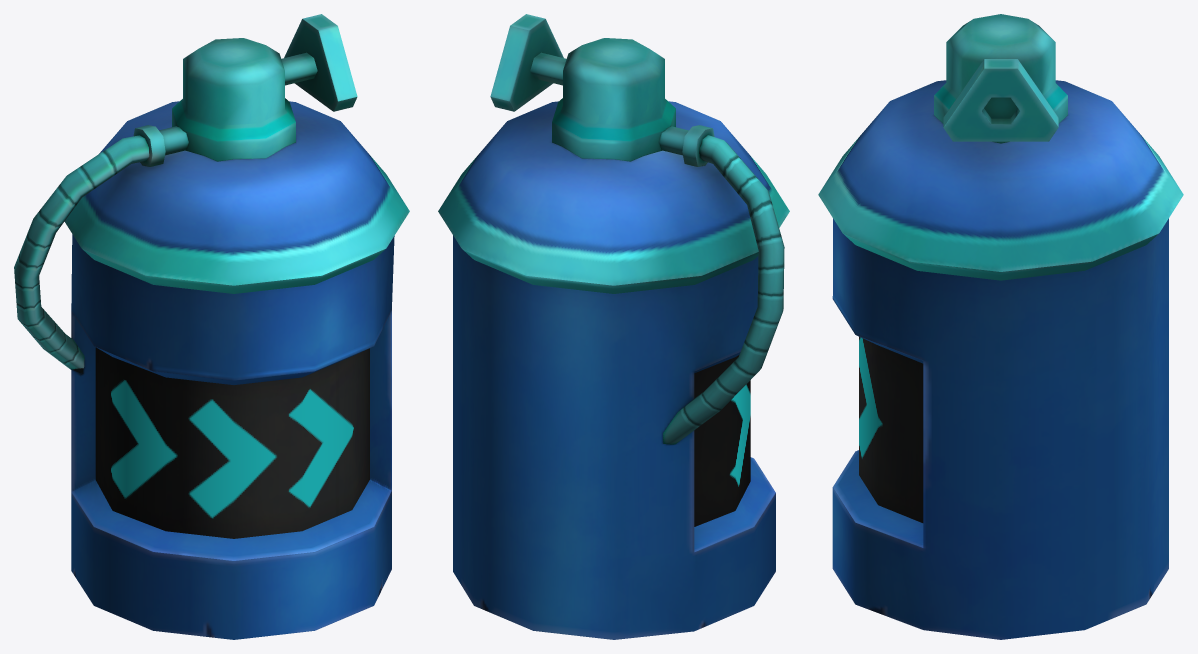
The model's file is Power_Up.fbx.
3 views of the same model, side by side, from view 1: azimuth 30°, elevation 25°; view 2: azimuth 150°, elevation 25°; view 3: azimuth 270°, elevation 25° (orthographic). The views are drawn at different scales.
Parts seen in each view (by area): view 1: Power_Up; view 2: Power_Up; view 3: Power_Up.
Part boxes in pixels (x1,y1,x2,y2): Power_Up: [14, 14, 409, 639]; Power_Up: [438, 14, 789, 639]; Power_Up: [818, 14, 1183, 639].
Bounding box in the file's own units: 52.87 × 77.15 × 46.57.
